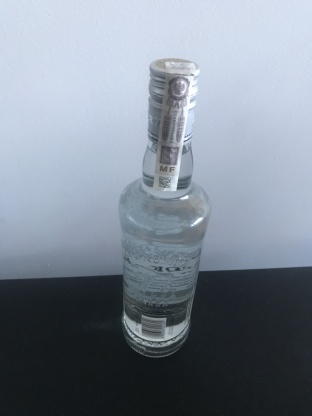nakretka: (145, 53, 202, 148)
